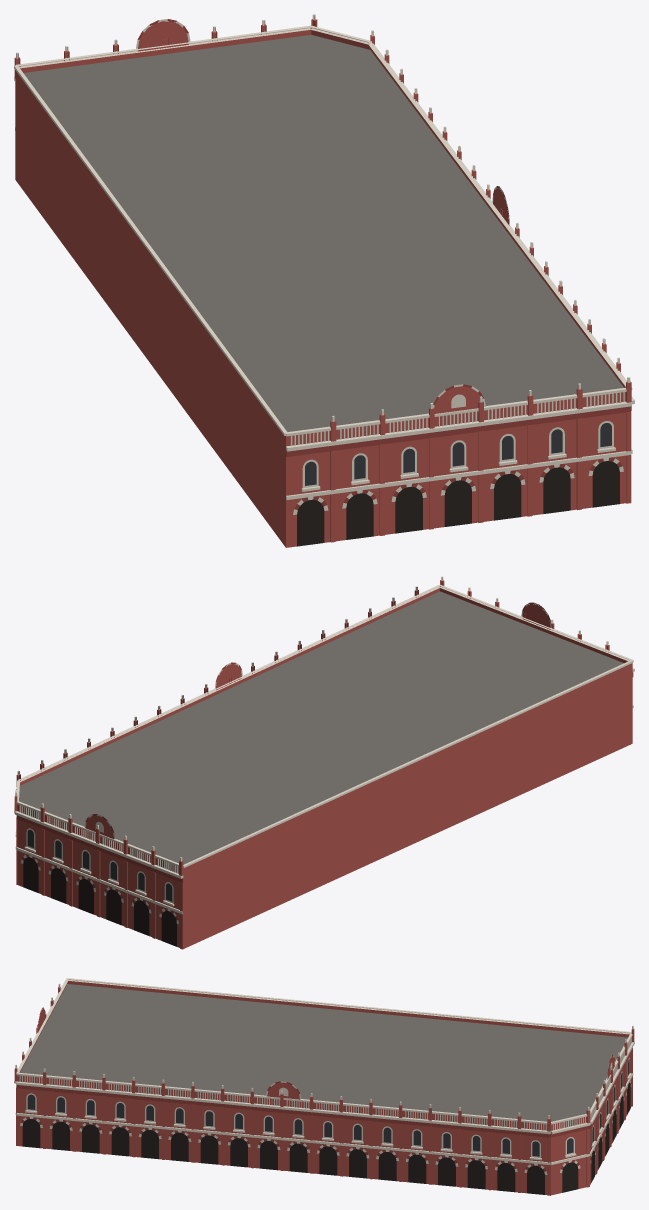
File: cargills.glb
3 renders of one model, top to bottom at view 1: azimuth 30°, elevation 25°; view 2: azimuth 150°, elevation 25°; view 3: azimuth 270°, elevation 25°, orthographic. The views are drawn at different scales.
Bounding box in the file's own units: 49.14 × 14.06 × 88.48.
